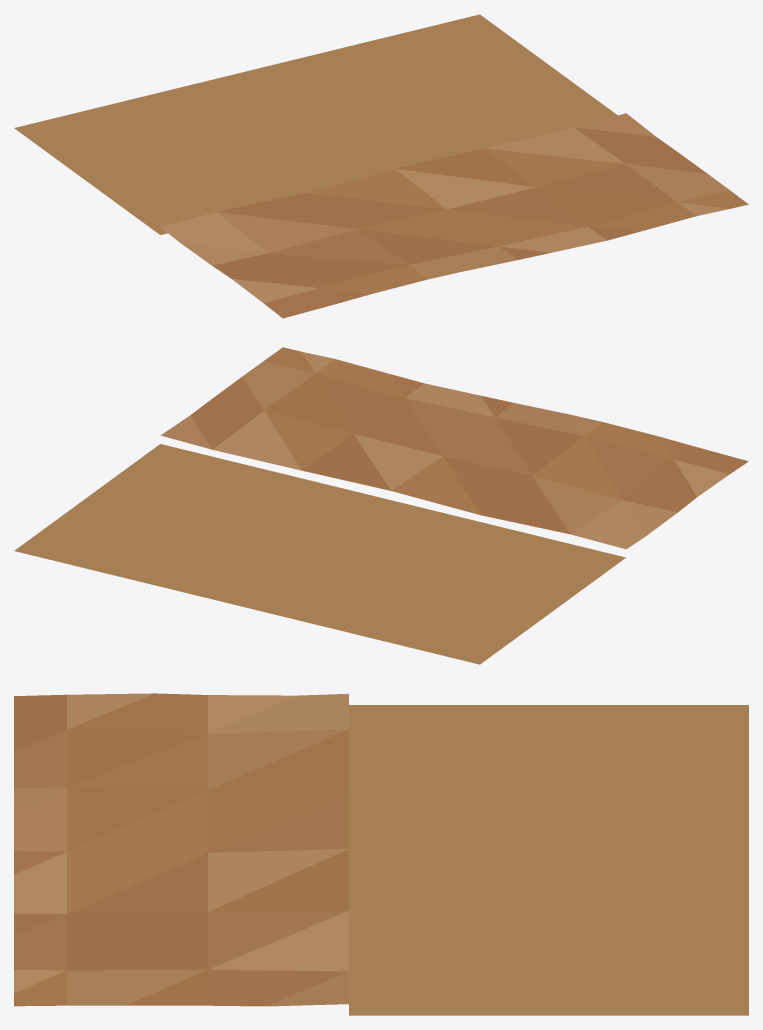
3 views of the same model, one above another, from view 1: azimuth 30°, elevation 25°; view 2: azimuth 150°, elevation 25°; view 3: azimuth 270°, elevation 25° (orthographic). The views are drawn at different scales.
Visible parts, largest first — view 1: baked; view 2: baked; view 3: baked.
Part boxes in pixels (bbox=[...]): baked: bbox=[14, 14, 748, 318]; baked: bbox=[14, 347, 748, 664]; baked: bbox=[14, 693, 748, 1015].
Size of the model in its own units: 62.5 by 1.33 by 62.5.
